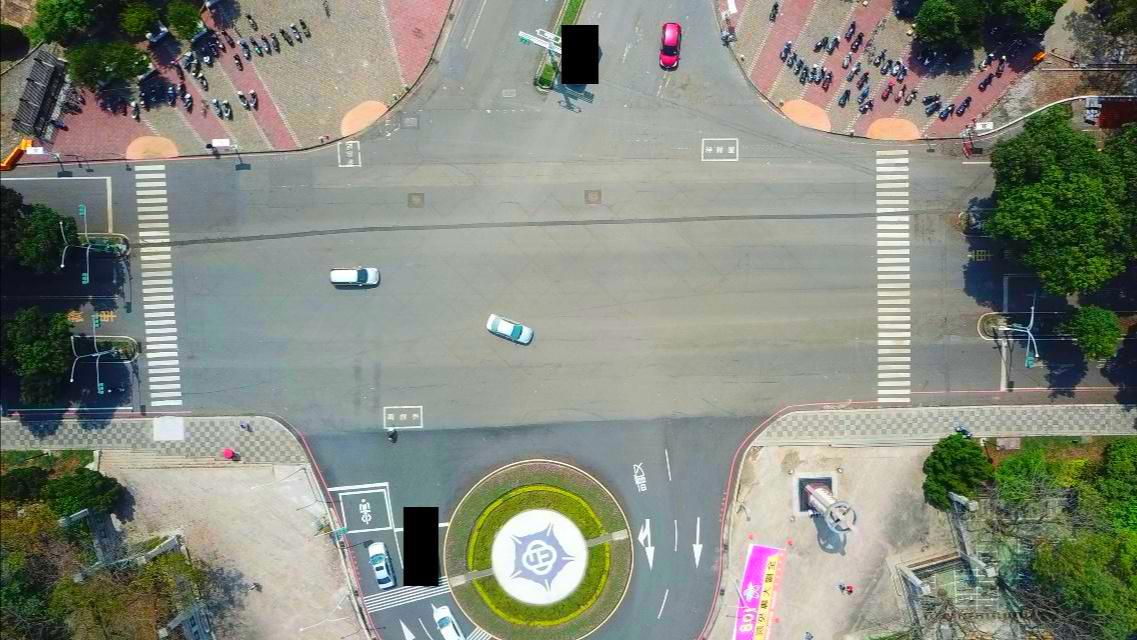vehicle: (483, 314, 535, 347), (366, 541, 393, 589), (329, 265, 380, 289), (432, 606, 465, 639), (659, 22, 681, 69)
